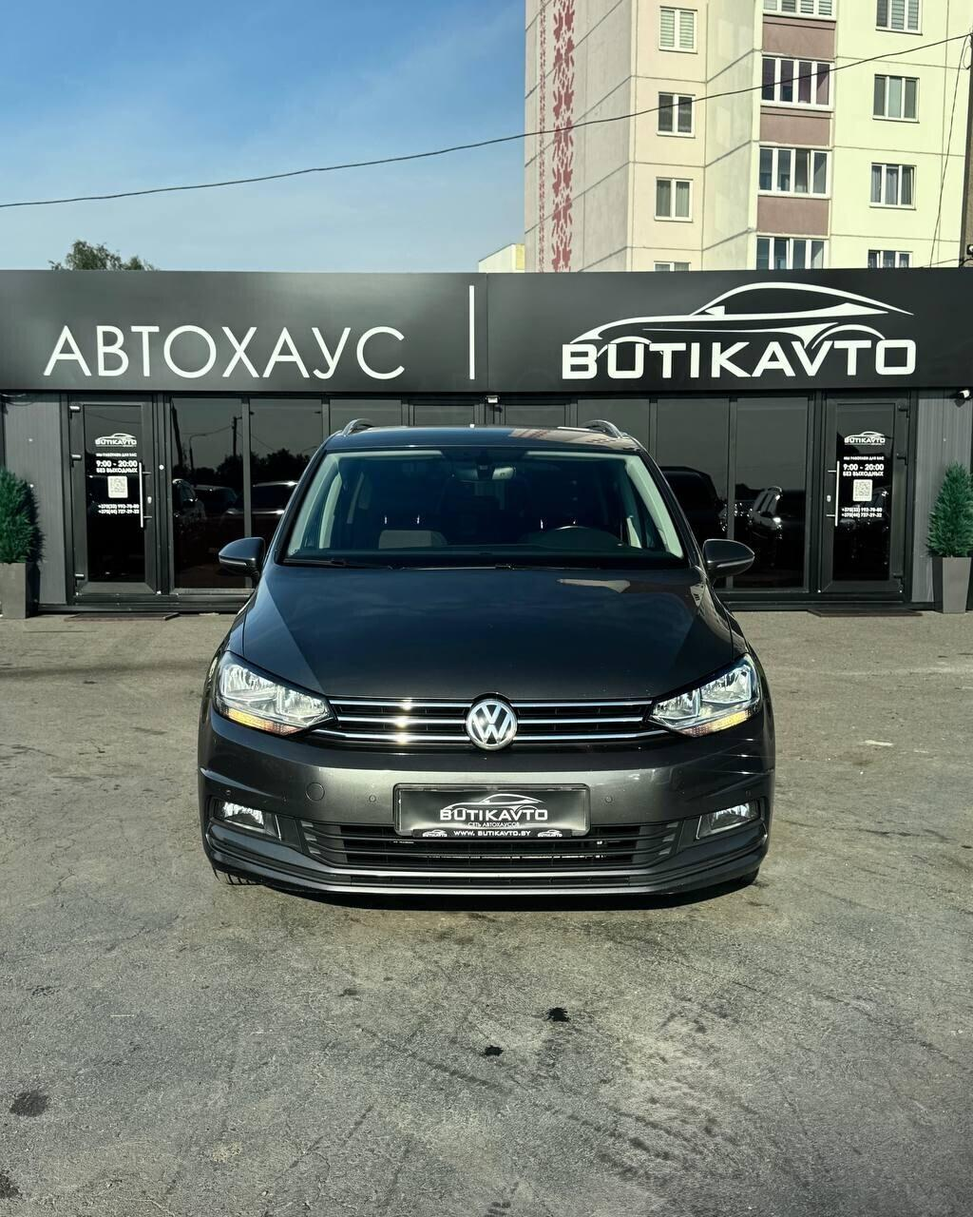Touran_2015: (188, 420, 776, 916)
